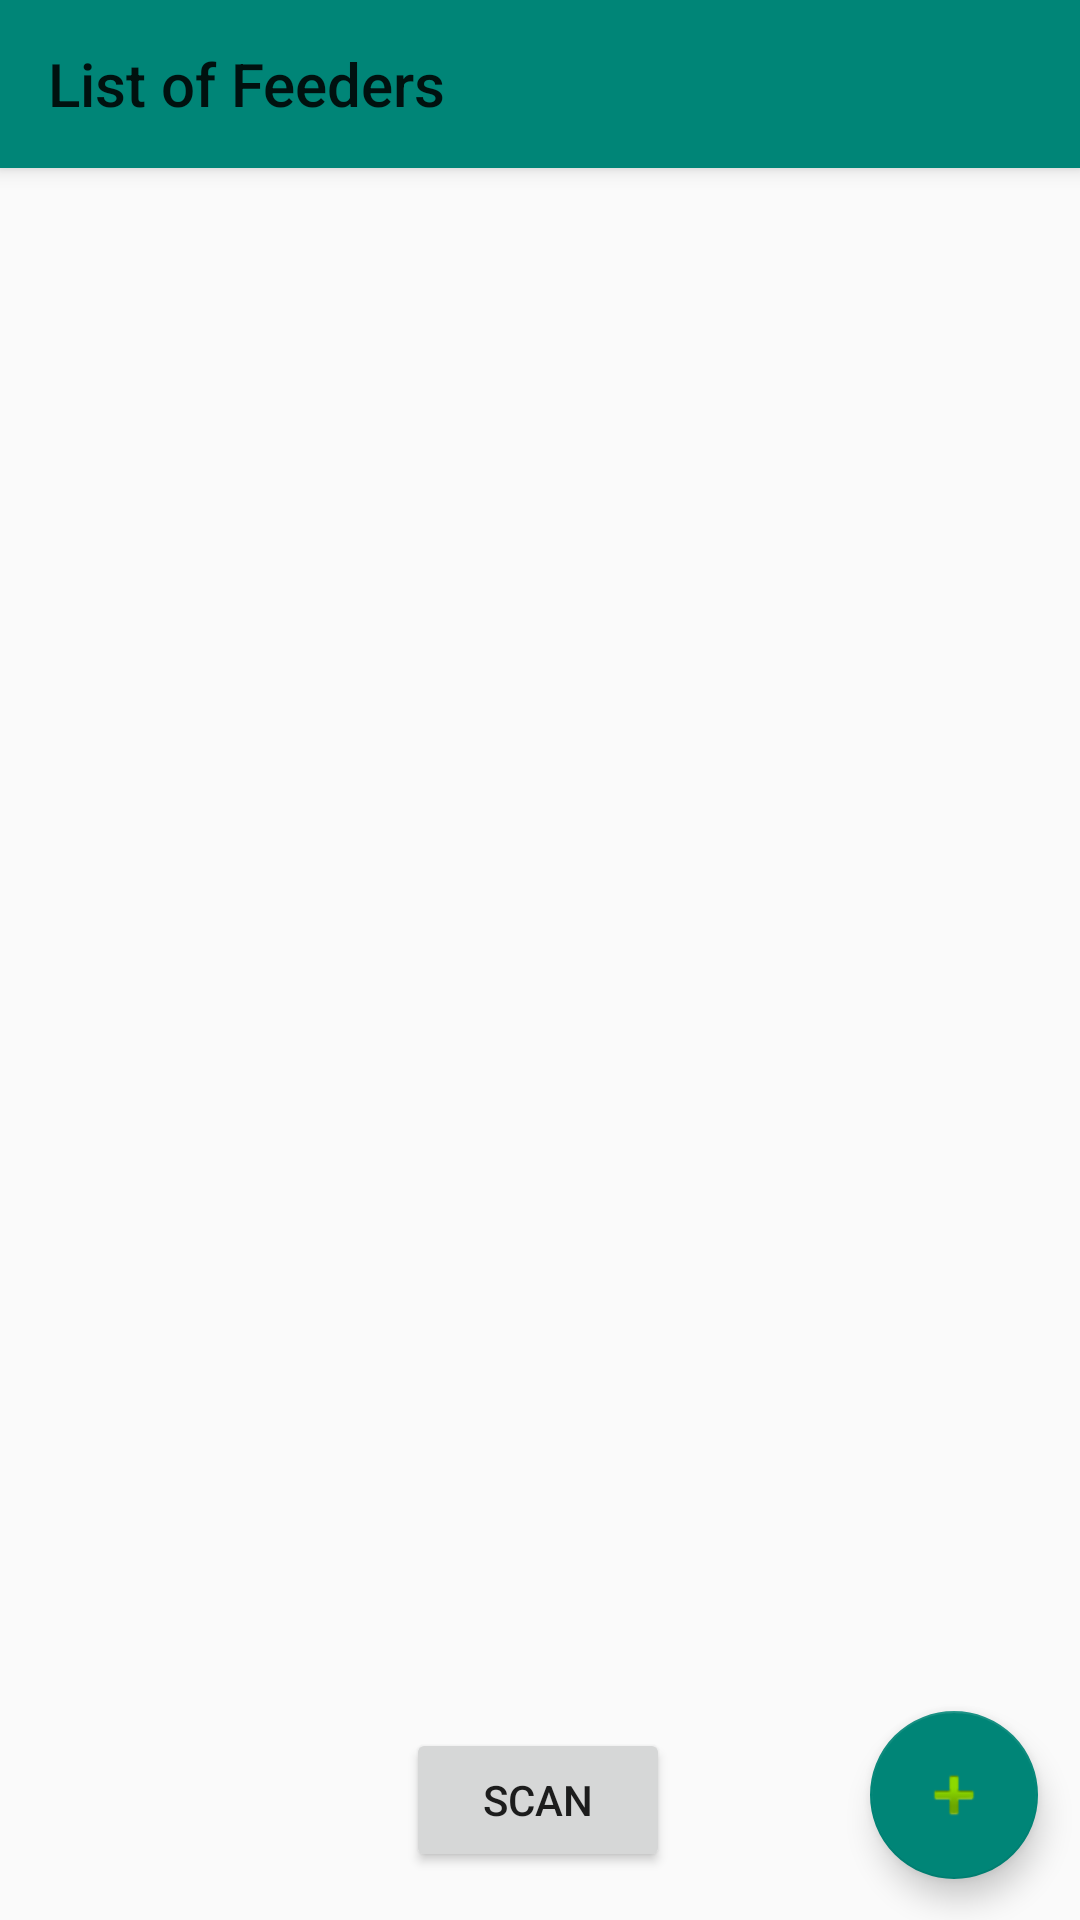

Where to tap for icons on this 1080 x 1920 app screen, as (x,y):
add: (954,1795)
